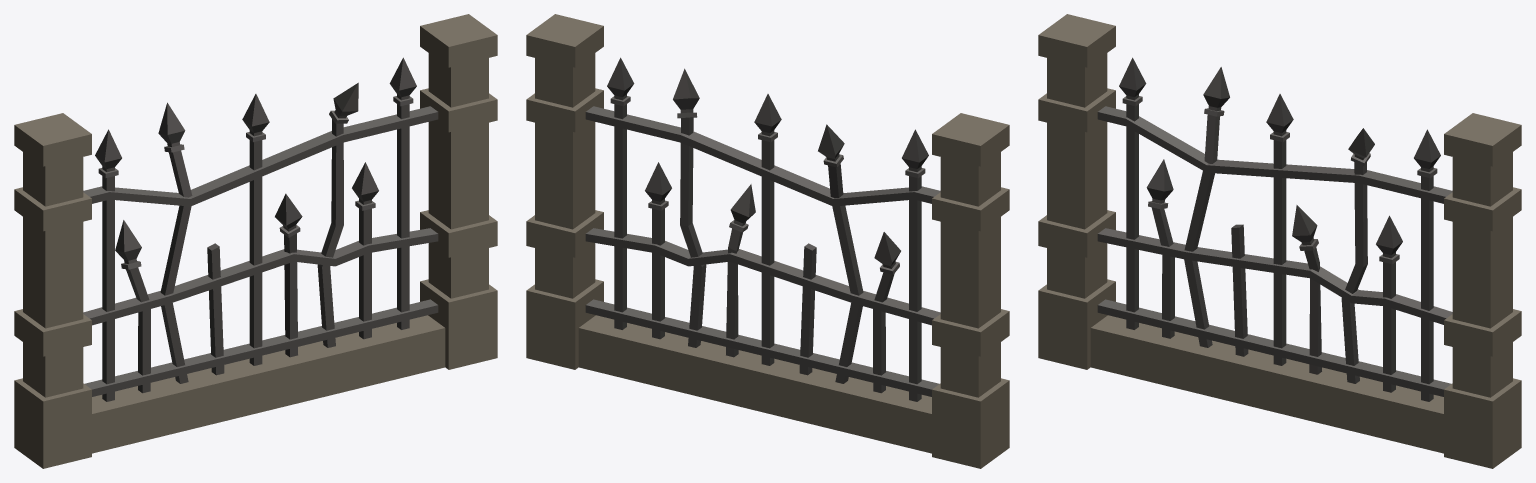
Rendered from Graveyard_Fence_02.gltf.
3 renders of one model, left to right at view 1: azimuth 30°, elevation 25°; view 2: azimuth 150°, elevation 25°; view 3: azimuth 330°, elevation 25°, orthographic.
Parts seen in each view (by area): view 1: SF_Prop_Graveyard_Fence_02; view 2: SF_Prop_Graveyard_Fence_02; view 3: SF_Prop_Graveyard_Fence_02.
Boxes of the visible parts, x1,y1,x2,y2 form: SF_Prop_Graveyard_Fence_02: (14,14,497,468); SF_Prop_Graveyard_Fence_02: (526,14,1009,468); SF_Prop_Graveyard_Fence_02: (1038,14,1521,468).
Bounding box in the file's own units: 0.0637 × 0.0432 × 0.00714.
1 material, 1 textured.
